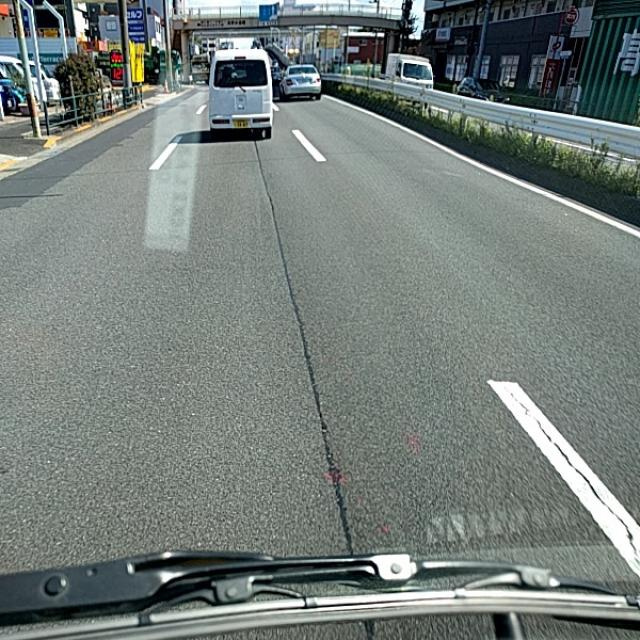pothole: (296, 324, 328, 435)
